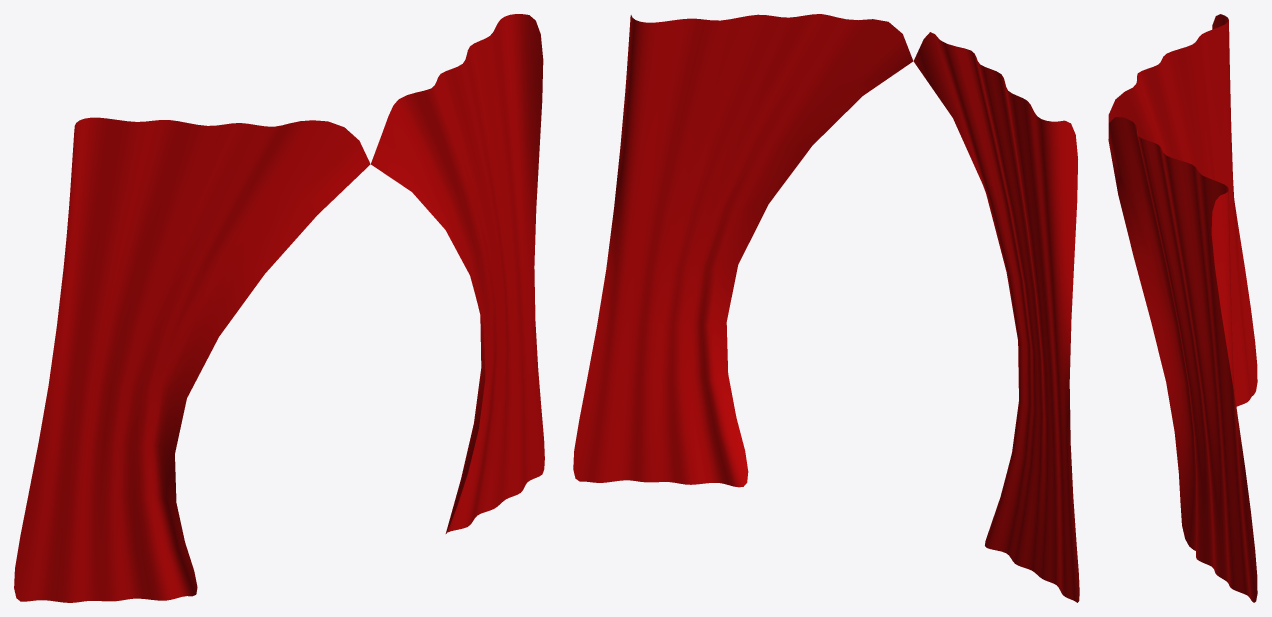
Rendered from cartain.fbx.
3 renders of one model, left to right at view 1: azimuth 30°, elevation 25°; view 2: azimuth 150°, elevation 25°; view 3: azimuth 270°, elevation 25°, orthographic. The views are drawn at different scales.
Visible parts, largest first — view 1: 平面; view 2: 平面; view 3: 平面.
Boxes of the visible parts, x1=… form: 平面: x1=14, y1=14, x2=544, y2=602; 平面: x1=573, y1=14, x2=1079, y2=602; 平面: x1=1108, y1=14, x2=1257, y2=602.
Bounding box in the file's own units: 1117 × 971 × 332.
